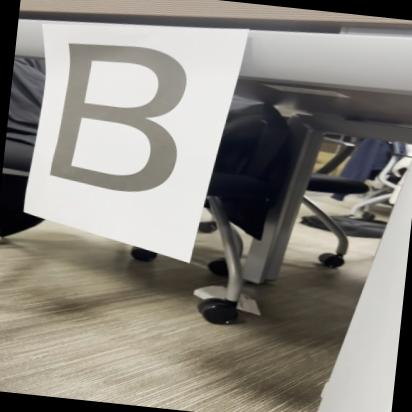seat: (37, 36, 214, 212)
